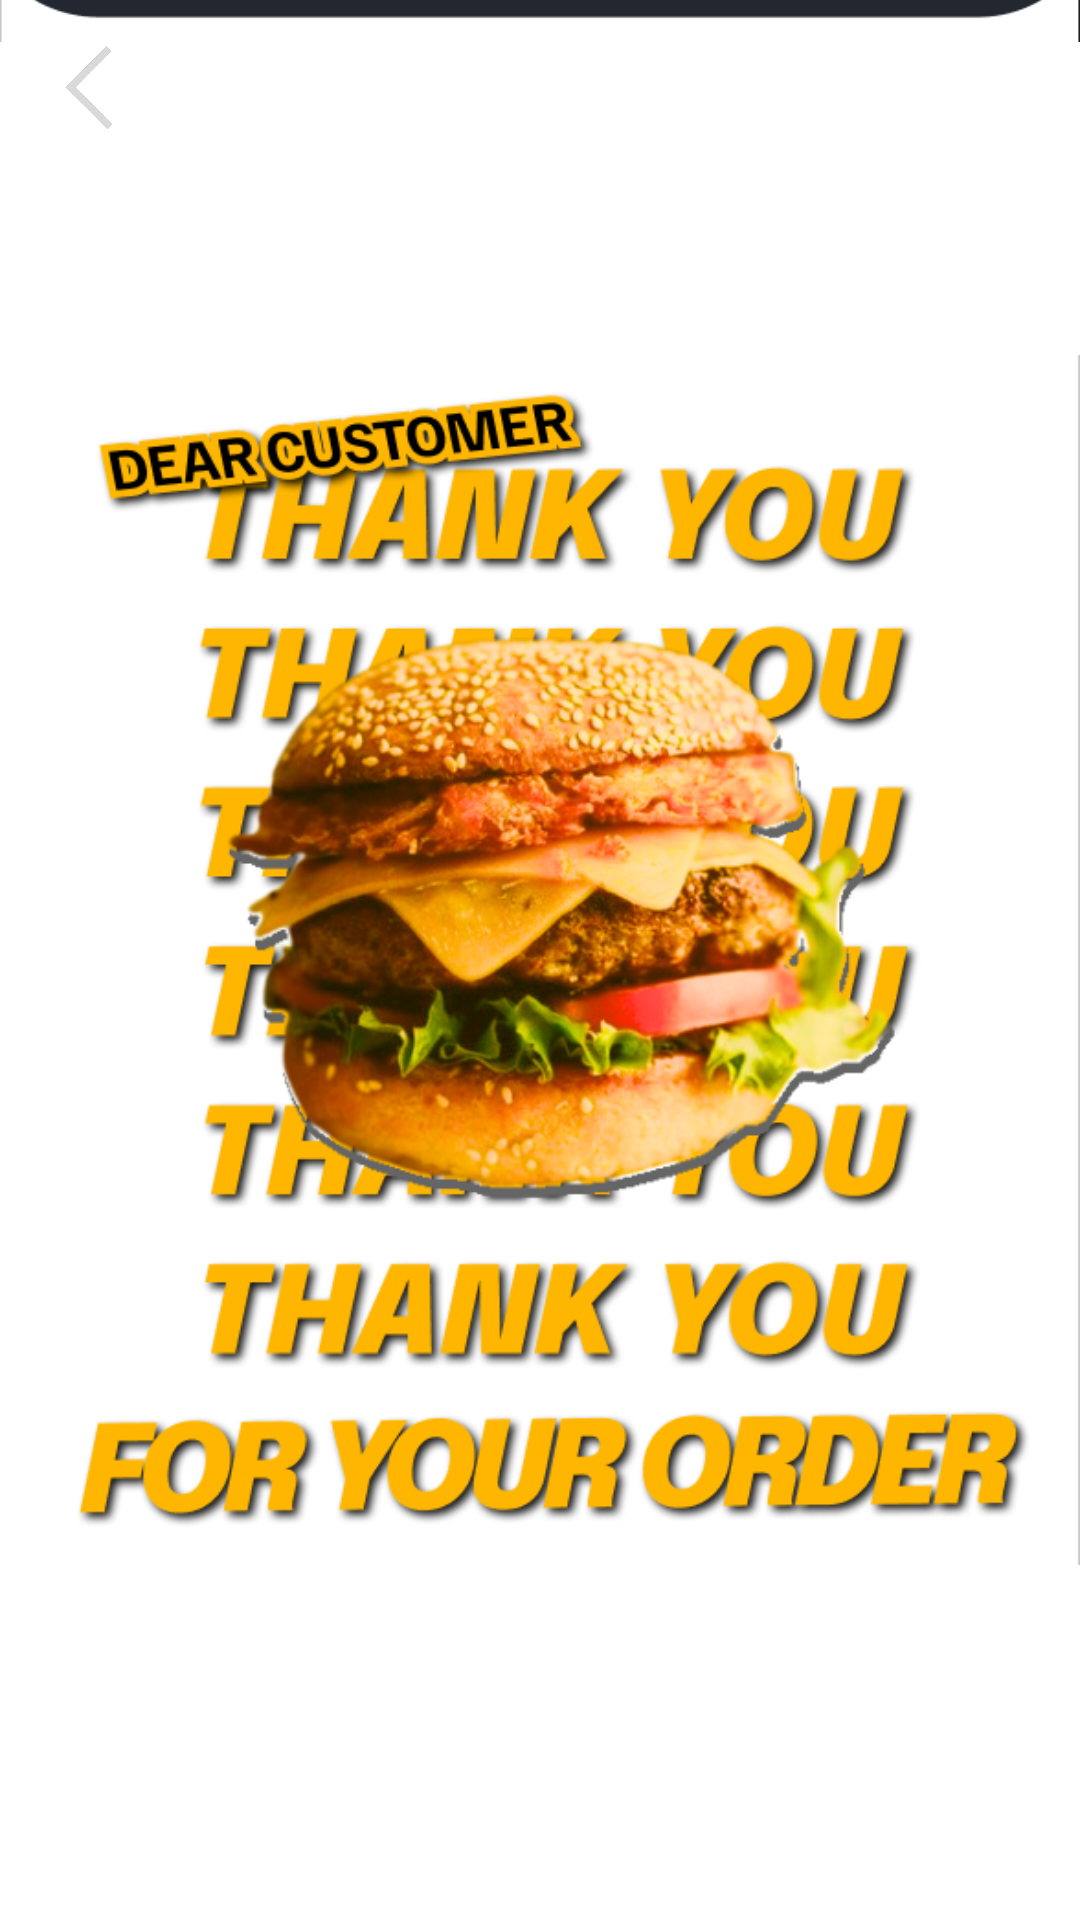

Icon bounding boxes for this 1080px×1920px phone screenshot, format (left=x1, top=y1, right=x2, bottom=y2):
back: (left=66, top=46, right=112, bottom=129)
